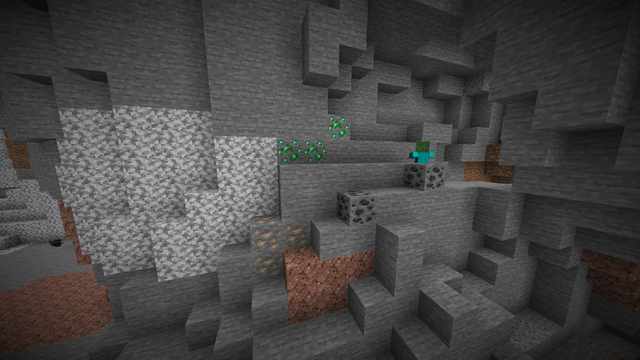coal: (337, 189, 377, 226), (404, 162, 448, 190)
emerald: (277, 115, 351, 164)
iron: (251, 214, 313, 282)
